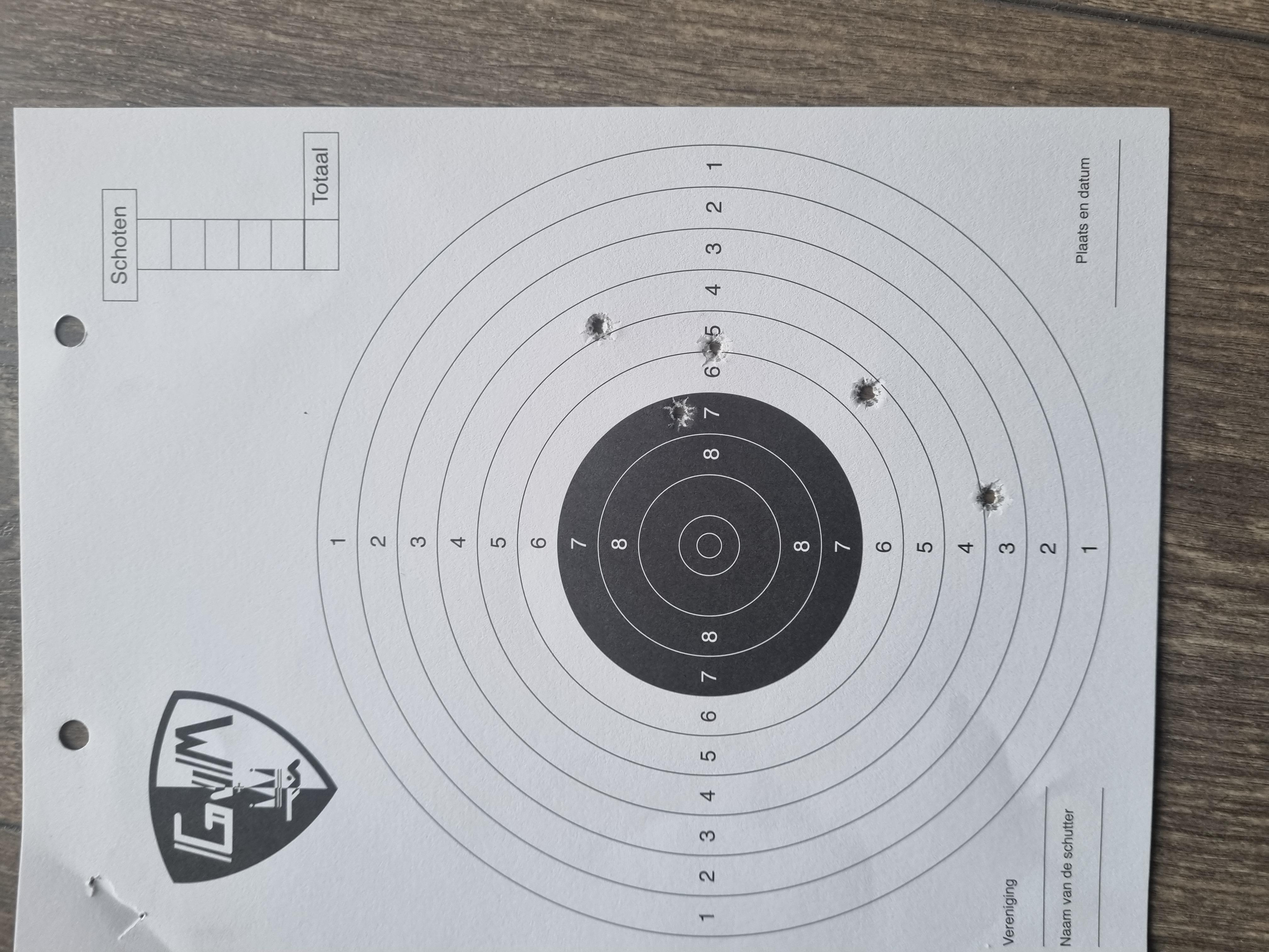hole: (720, 638, 769, 664), (582, 729, 628, 756), (698, 497, 741, 522), (783, 522, 823, 547), (810, 437, 852, 460)
